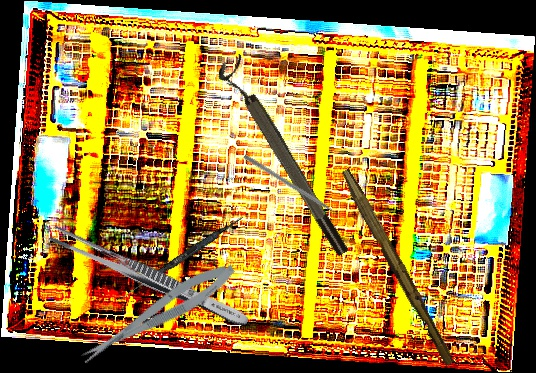Dressing Forceps: (47, 224, 252, 331)
Fixation Ring: (213, 53, 353, 264)
Micro Scissor: (74, 256, 241, 370)
Pusher: (242, 153, 347, 223)
Scalpel Handle: (334, 167, 460, 368)
Spatula Surgical: (116, 211, 245, 306)
